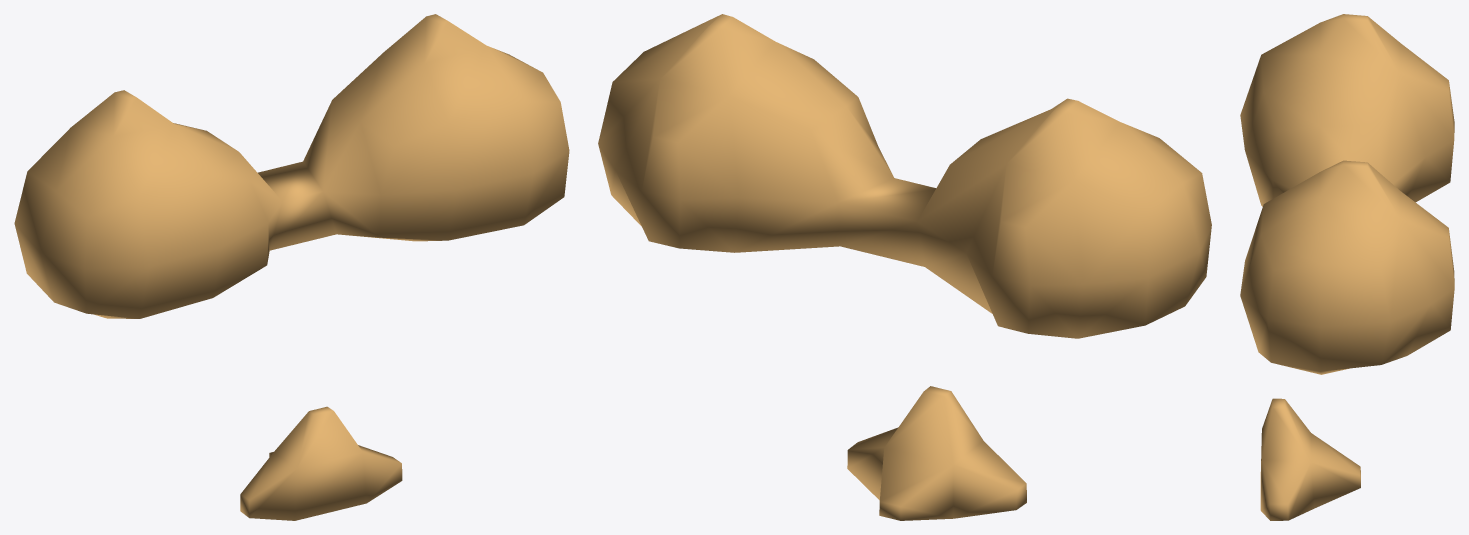
The model's file is nose_triangle.glb.
The picture shows the model from 3 angles, left to right: view 1: azimuth 30°, elevation 25°; view 2: azimuth 150°, elevation 25°; view 3: azimuth 270°, elevation 25°; orthographic projection. The views are drawn at different scales.
Parts seen in each view (by area): view 1: NoseTriangle.001; view 2: NoseTriangle.001; view 3: NoseTriangle.001.
Part boxes in pixels (bbox=[...]): NoseTriangle.001: bbox=[14, 14, 569, 520]; NoseTriangle.001: bbox=[598, 14, 1211, 520]; NoseTriangle.001: bbox=[1240, 14, 1454, 520].
Bounding box in the file's own units: 0.0234 × 0.0181 × 0.0087.
